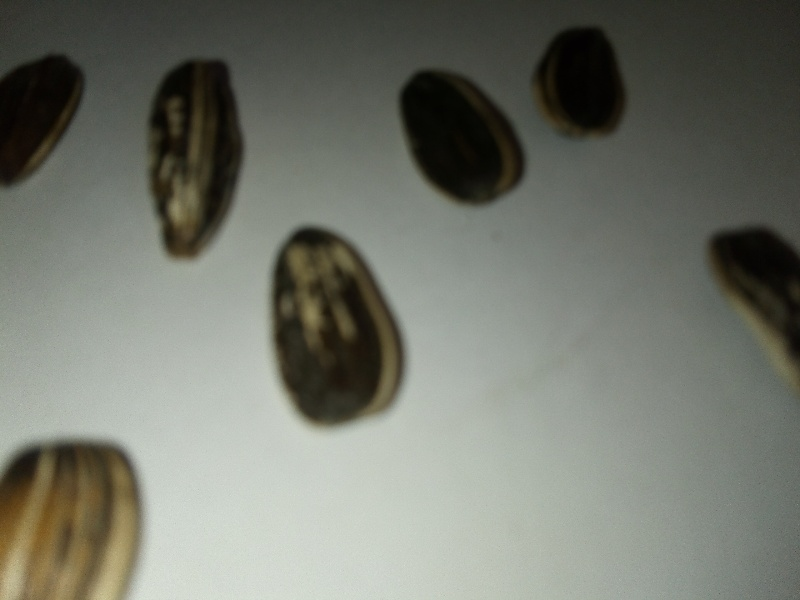girasol: (259, 210, 419, 441), (136, 51, 254, 268)
